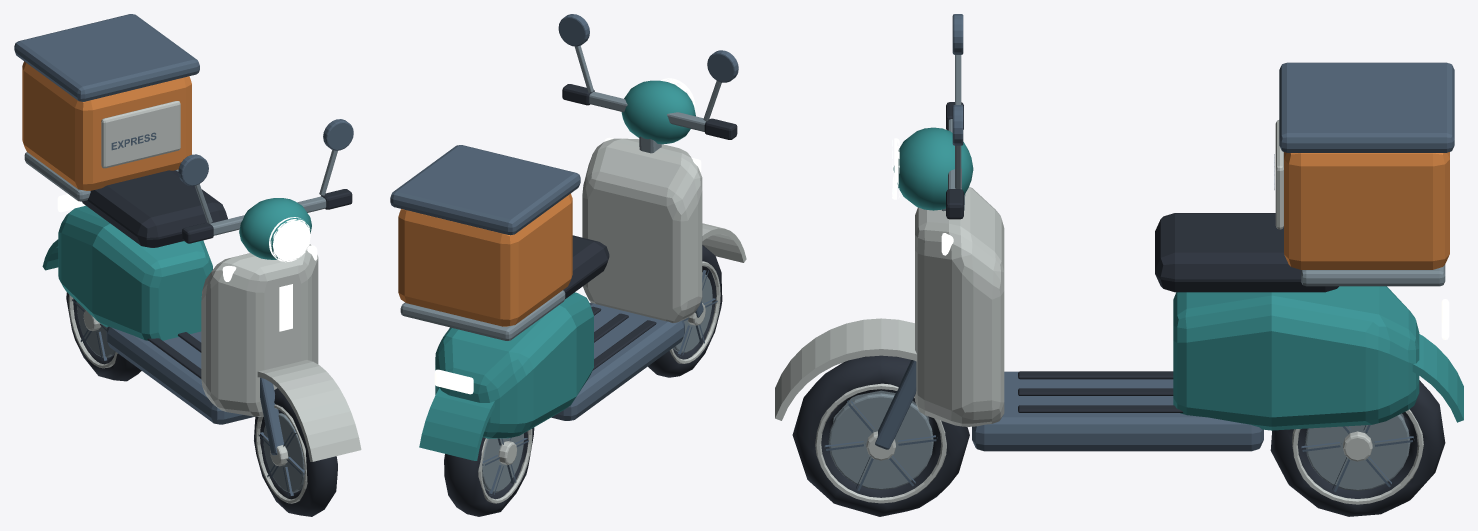
Rendered from scooter.glb.
3 renders of one model, left to right at view 1: azimuth 30°, elevation 25°; view 2: azimuth 150°, elevation 25°; view 3: azimuth 270°, elevation 25°, orthographic. The views are drawn at different scales.
Visible parts, largest first — view 1: Body, Wheel_F, Signal, Wheel_R; view 2: Body, Wheel_R, Wheel_F, Signal; view 3: Body, Wheel_F, Wheel_R, Signal.
Boxes of the visible parts, x1,y1,x2,y2 form: Body: (14, 14, 361, 461); Wheel_F: (254, 388, 337, 516); Signal: (57, 194, 317, 331); Wheel_R: (66, 292, 141, 381); Body: (390, 14, 746, 460); Wheel_R: (444, 427, 534, 516); Wheel_F: (648, 245, 722, 377); Signal: (434, 78, 701, 394); Body: (775, 14, 1463, 451); Wheel_F: (792, 355, 969, 516); Wheel_R: (1270, 380, 1445, 516); Signal: (892, 138, 1449, 339).
Bounding box in the file's own units: 0.834 × 1.63 × 2.24.
